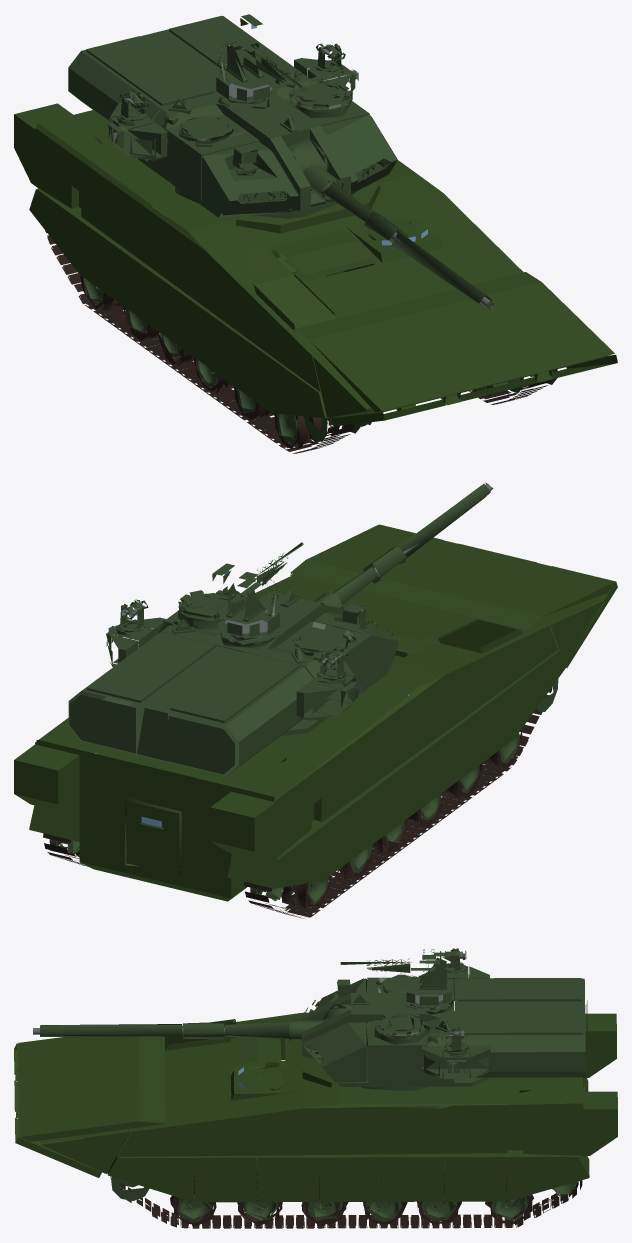
The model's file is type_ztd05.glb.
3 views of the same model, one above another, from view 1: azimuth 30°, elevation 25°; view 2: azimuth 150°, elevation 25°; view 3: azimuth 270°, elevation 25° (orthographic). The views are drawn at different scales.
Parts seen in each view (by area): view 1: Object_10; view 2: Object_10; view 3: Object_10.
Boxes of the visible parts, x1=… form: Object_10: x1=14, y1=14, x2=617, y2=453; Object_10: x1=14, y1=482, x2=617, y2=918; Object_10: x1=14, y1=948, x2=617, y2=1228.
Bounding box in the file's own units: 3.68 × 4.07 × 9.47.
2 materials, 2 textured.
